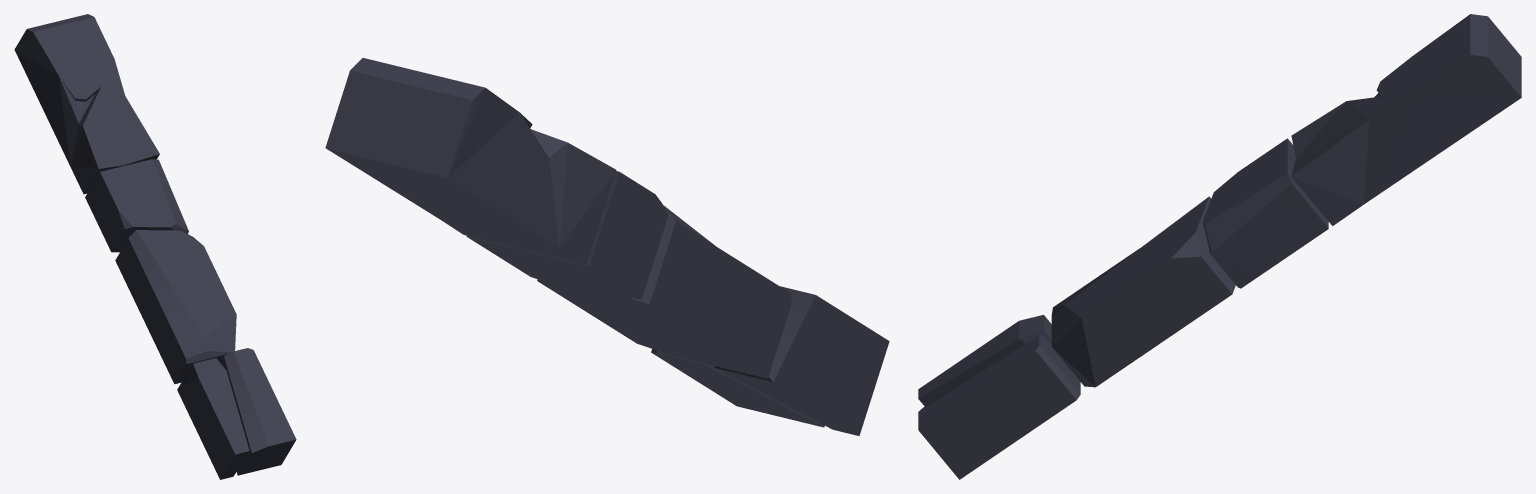
Rendered from Edge_Stairs_02.fbx.
The picture shows the model from 3 angles, left to right: view 1: azimuth 30°, elevation 25°; view 2: azimuth 150°, elevation 25°; view 3: azimuth 270°, elevation 25°; orthographic projection. The views are drawn at different scales.
Visible parts, largest first — view 1: 1-Stairs_Edge_02; view 2: 1-Stairs_Edge_02; view 3: 1-Stairs_Edge_02.
Boxes of the visible parts, <box> form: 1-Stairs_Edge_02: <box>14,14,296,479</box>; 1-Stairs_Edge_02: <box>325,58,889,435</box>; 1-Stairs_Edge_02: <box>918,14,1521,479</box>.
Bounding box in the file's own units: 0.6843 × 4.27 × 3.32.
